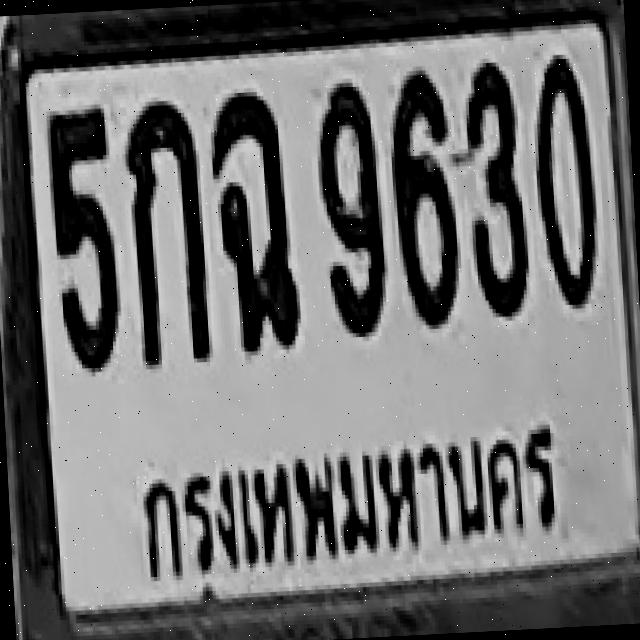0: (530, 54, 602, 310)
10GorGai: (123, 100, 210, 366)
3: (459, 59, 530, 320)
5: (48, 106, 122, 376)
6: (388, 70, 462, 330)
9: (314, 78, 388, 338)
Bangkok: (124, 422, 576, 590)
